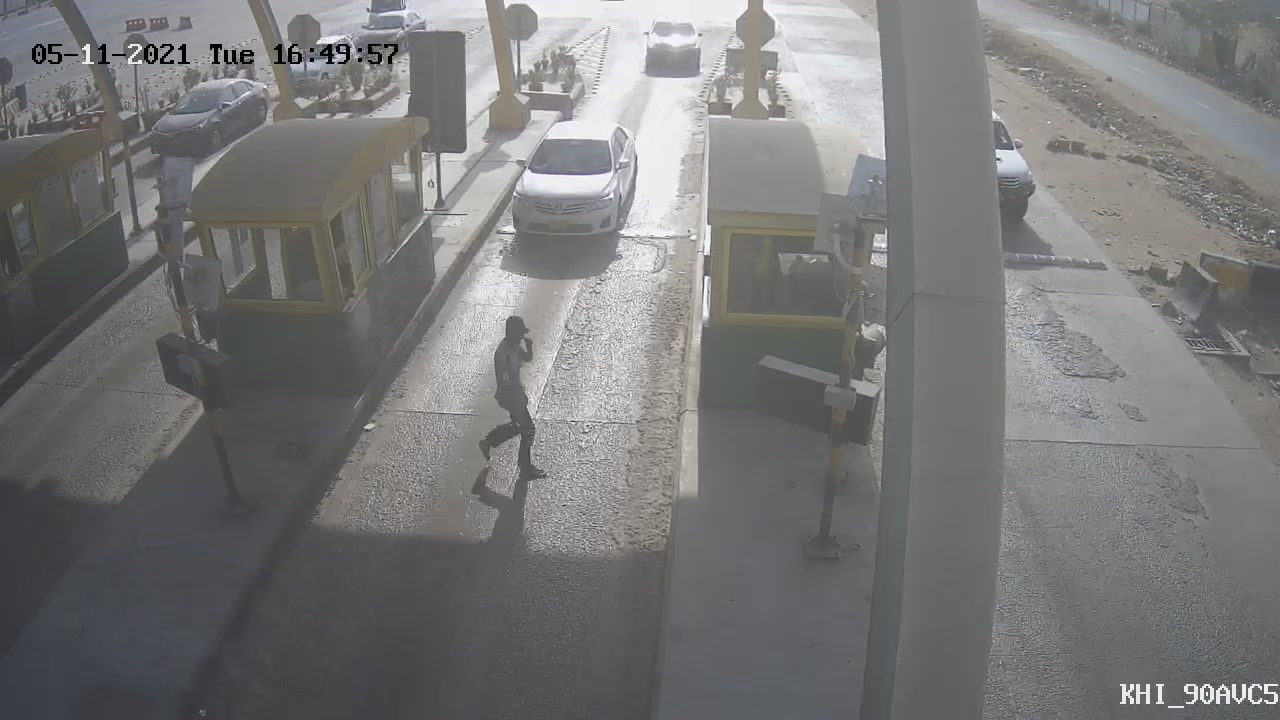F1: (489, 107, 651, 264)
